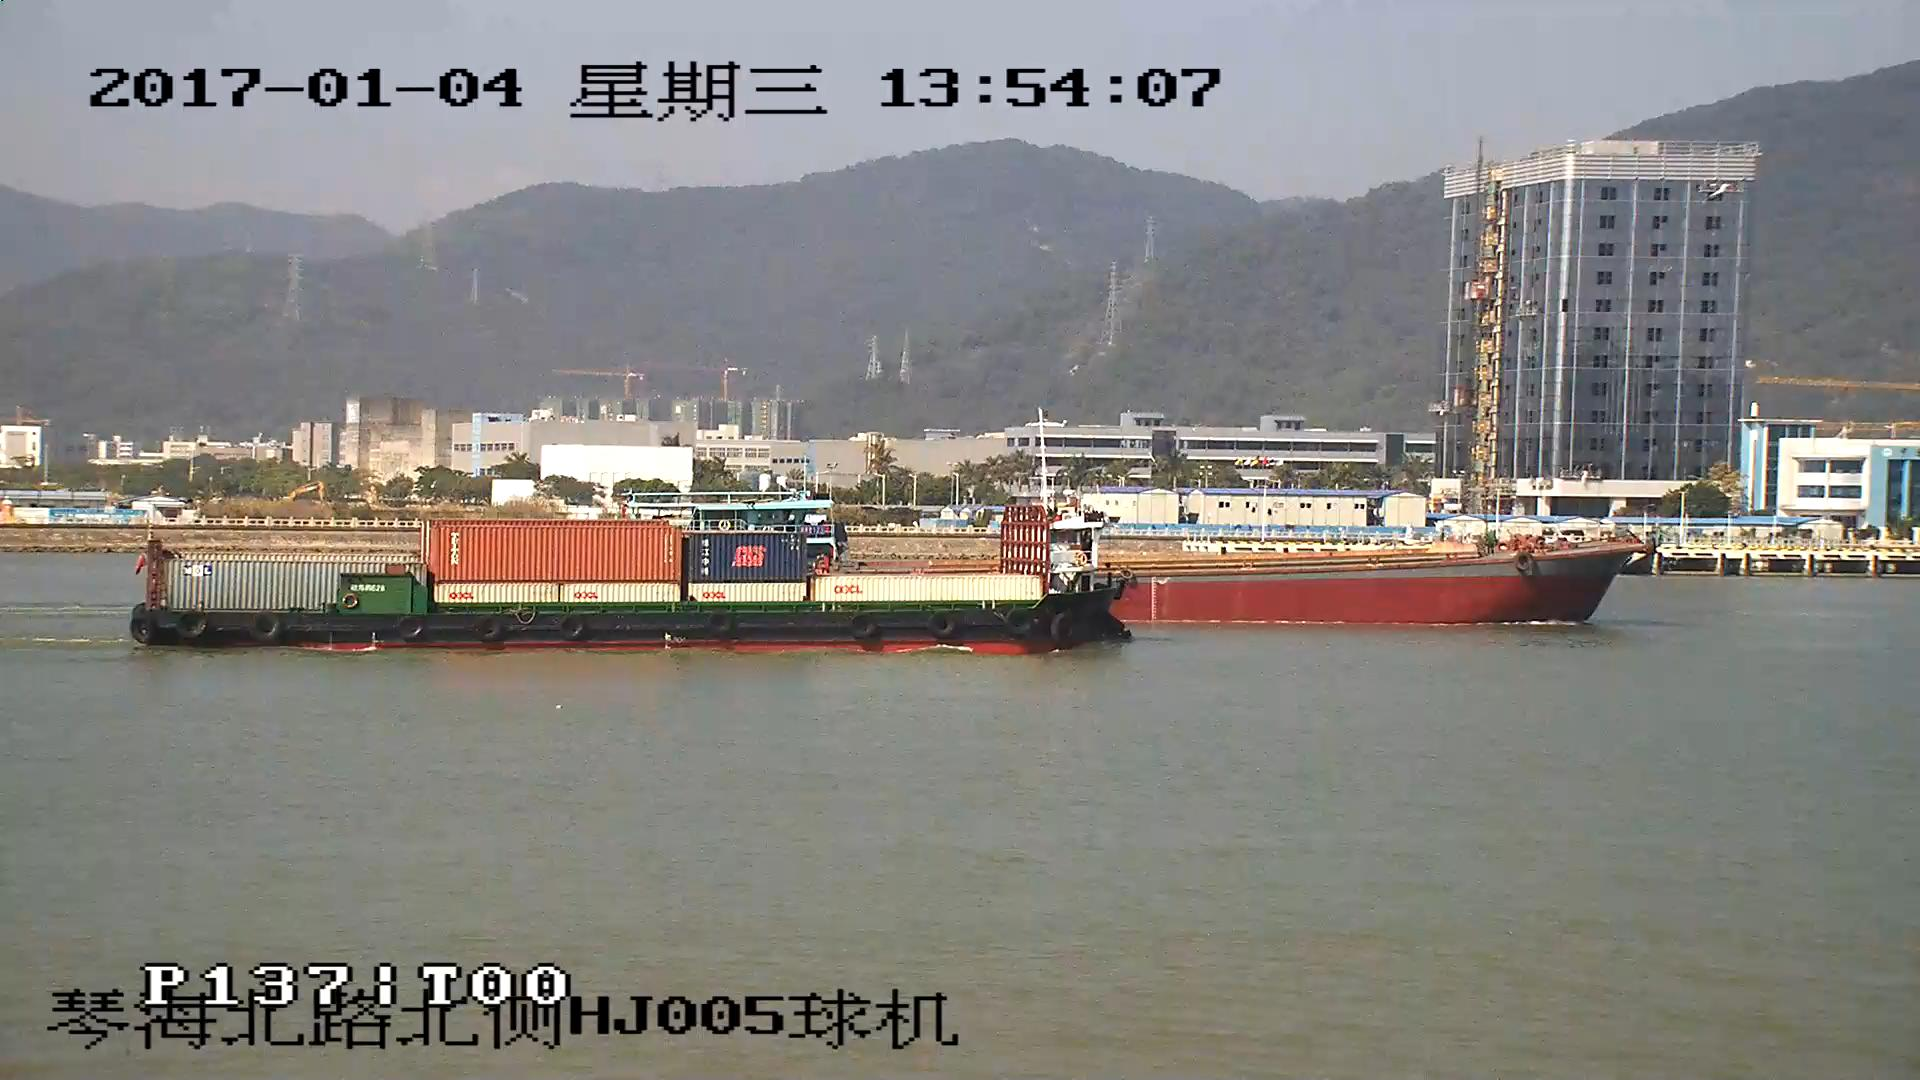bulk cargo carrier: (1121, 542, 1649, 621)
container ship: (133, 505, 1131, 649)
